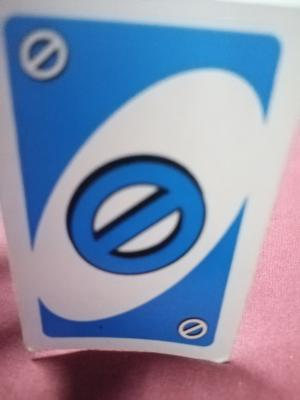blue: (9, 18, 233, 349)
skip: (14, 24, 74, 85), (173, 315, 215, 345)
